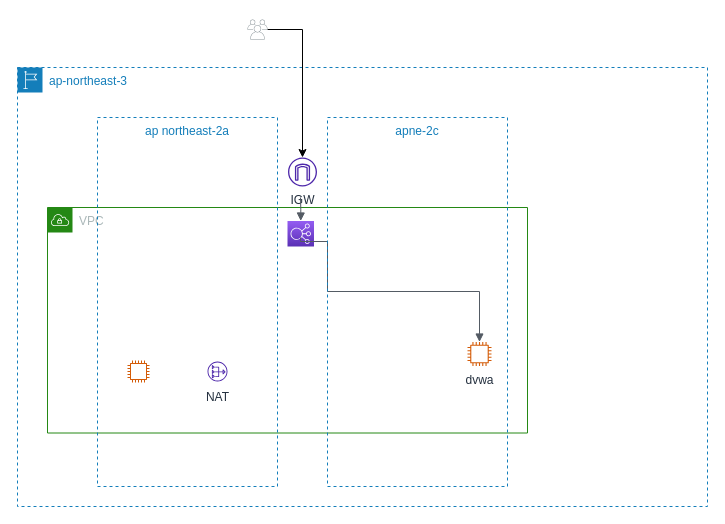
This 725x524 diagram has some shape labels left out. The shapes that lost their labels are listed below. From the top down, each one's centre as x and y in pixels, then its label:
At point (257, 29): "users".
At point (300, 233): "ALB".
At point (138, 371): "bastion".
